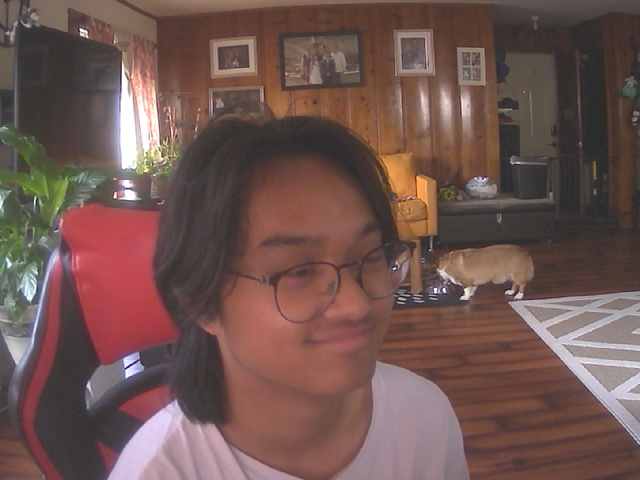happy: (170, 131, 421, 404)
